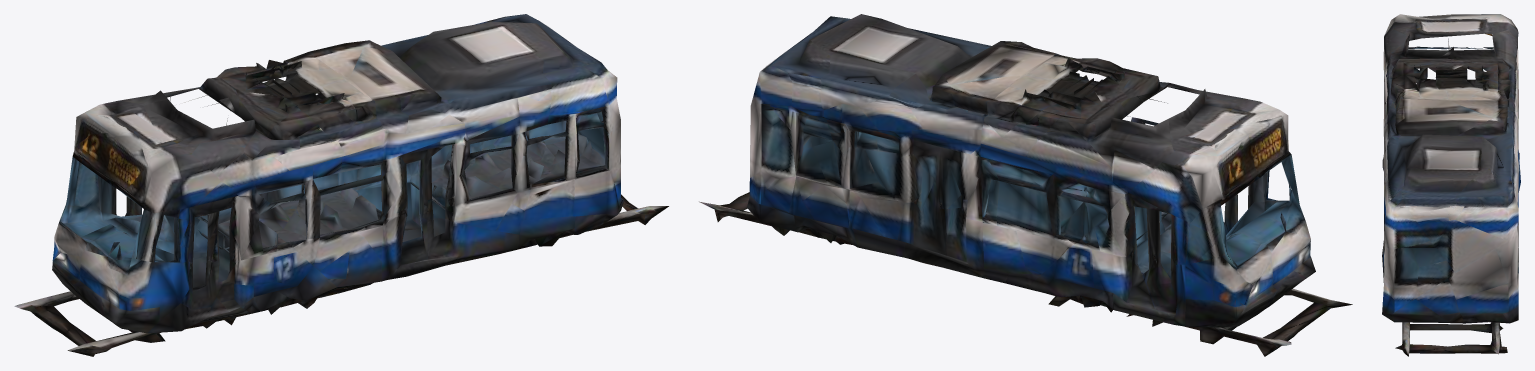
Rendered from veh-tram.glb.
3 views of the same model, side by side, from view 1: azimuth 30°, elevation 25°; view 2: azimuth 150°, elevation 25°; view 3: azimuth 270°, elevation 25° (orthographic). The views are drawn at different scales.
Visible parts, largest first — view 1: tripo_node_64aaa7a8-49d9-473e-a138-c5d0e0e822a1; view 2: tripo_node_64aaa7a8-49d9-473e-a138-c5d0e0e822a1; view 3: tripo_node_64aaa7a8-49d9-473e-a138-c5d0e0e822a1.
Boxes of the visible parts, x1=… form: tripo_node_64aaa7a8-49d9-473e-a138-c5d0e0e822a1: x1=14, y1=14, x2=668, y2=356; tripo_node_64aaa7a8-49d9-473e-a138-c5d0e0e822a1: x1=699, y1=14, x2=1352, y2=356; tripo_node_64aaa7a8-49d9-473e-a138-c5d0e0e822a1: x1=1382, y1=14, x2=1520, y2=356.
Size of the model in its own units: 0.9859 by 0.3062 by 0.249.
Materials: 1 (1 with a texture image).
